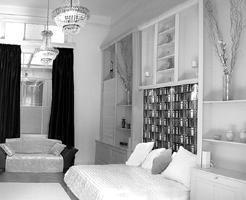Cama: (64, 148, 200, 199)
